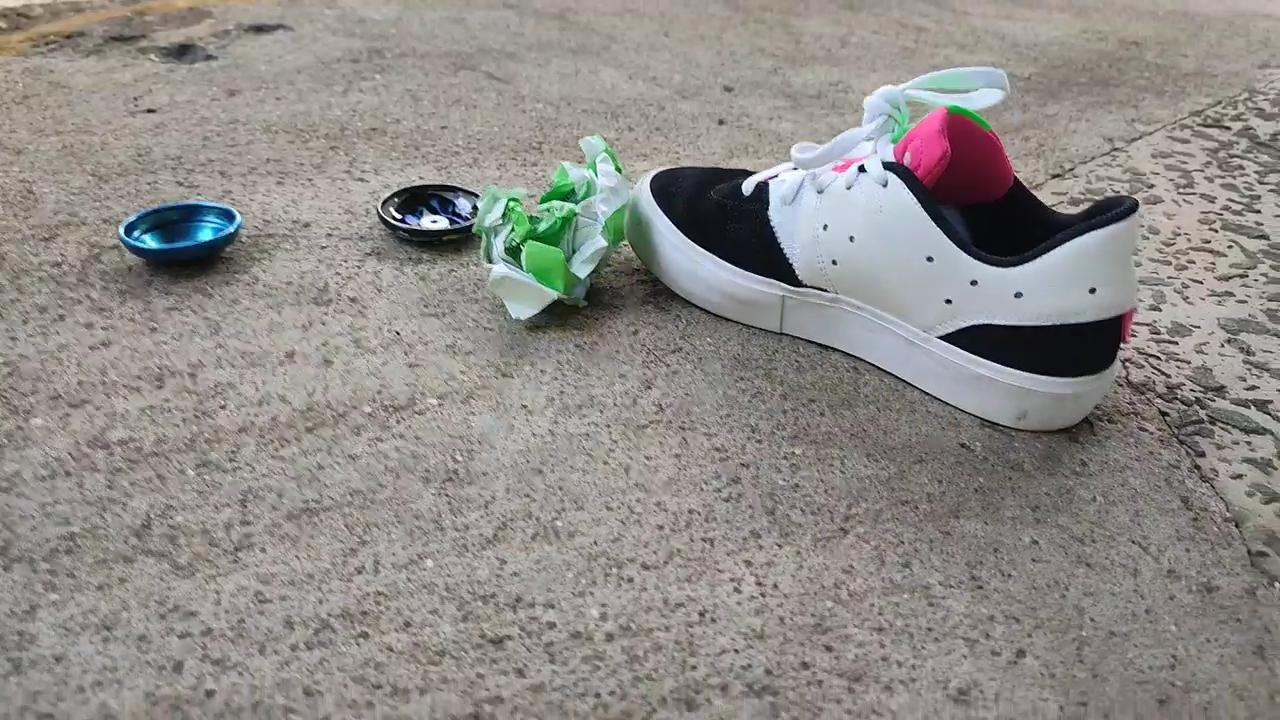paper: (474, 136, 630, 318)
